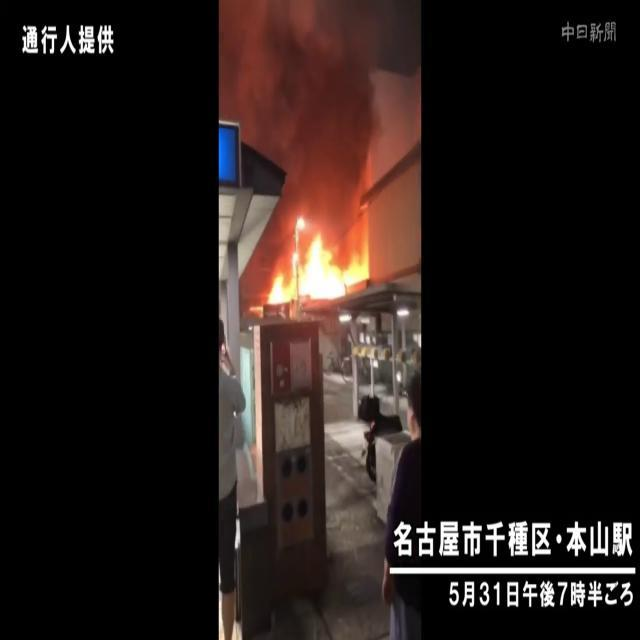Fire: (266, 215, 374, 312)
Smoke: (230, 0, 420, 222)
